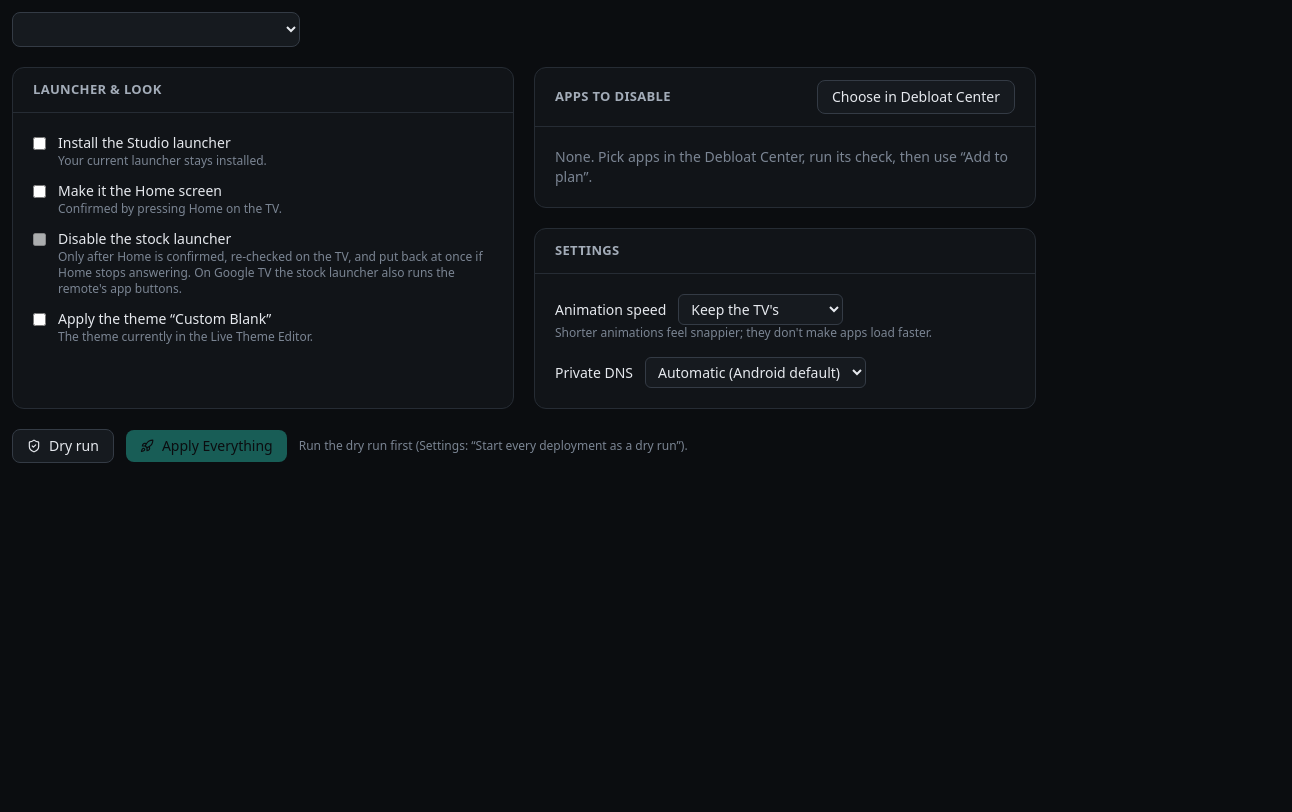
Test case: Deployment › blocked plans cannot be applied
Click the button "Dry run" at [63, 446], box [12,428,114,462]
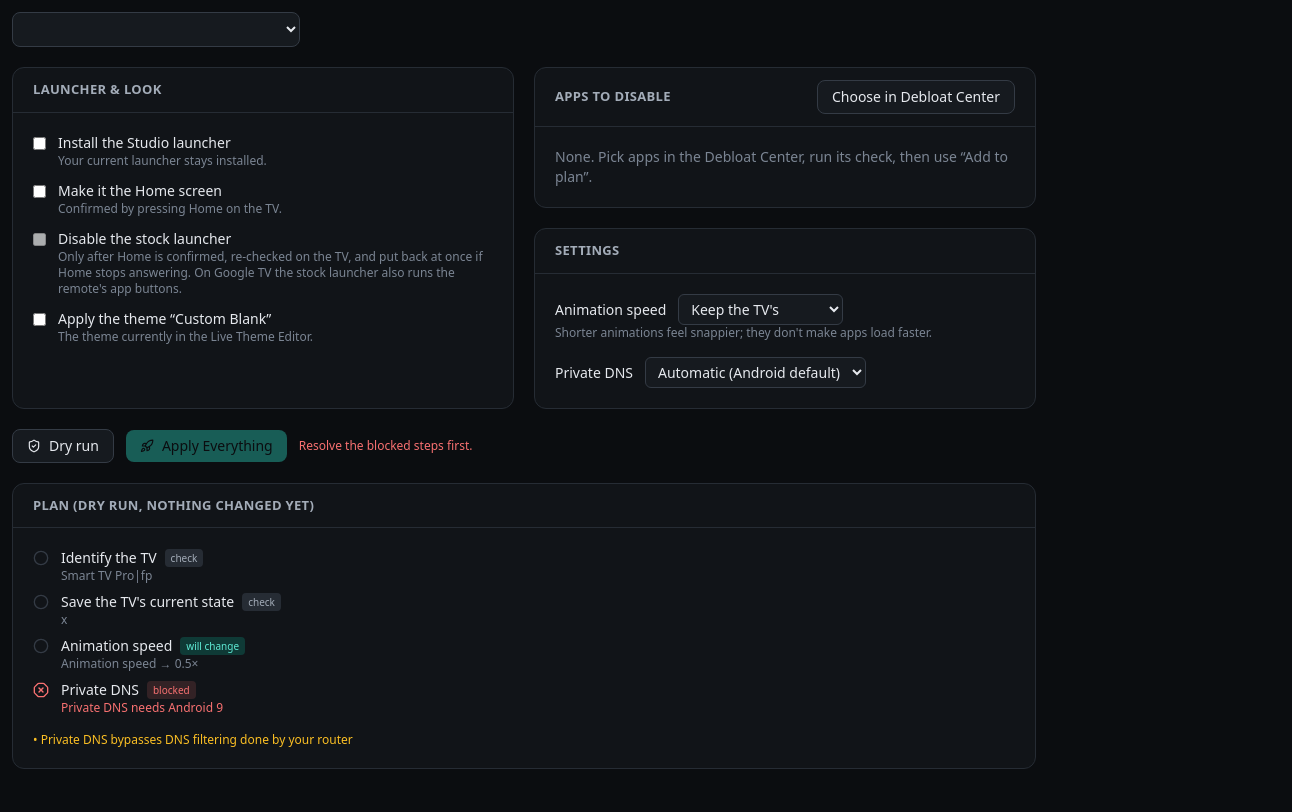
Expected: the button "Apply Everything" is disabled, [126,430,287,462]
Expected: the text "Private DNS needs Android 9" is shown, [61,699,223,716]
Expected: the text "Resolve the blocked steps first." is shown, [299,438,472,454]
